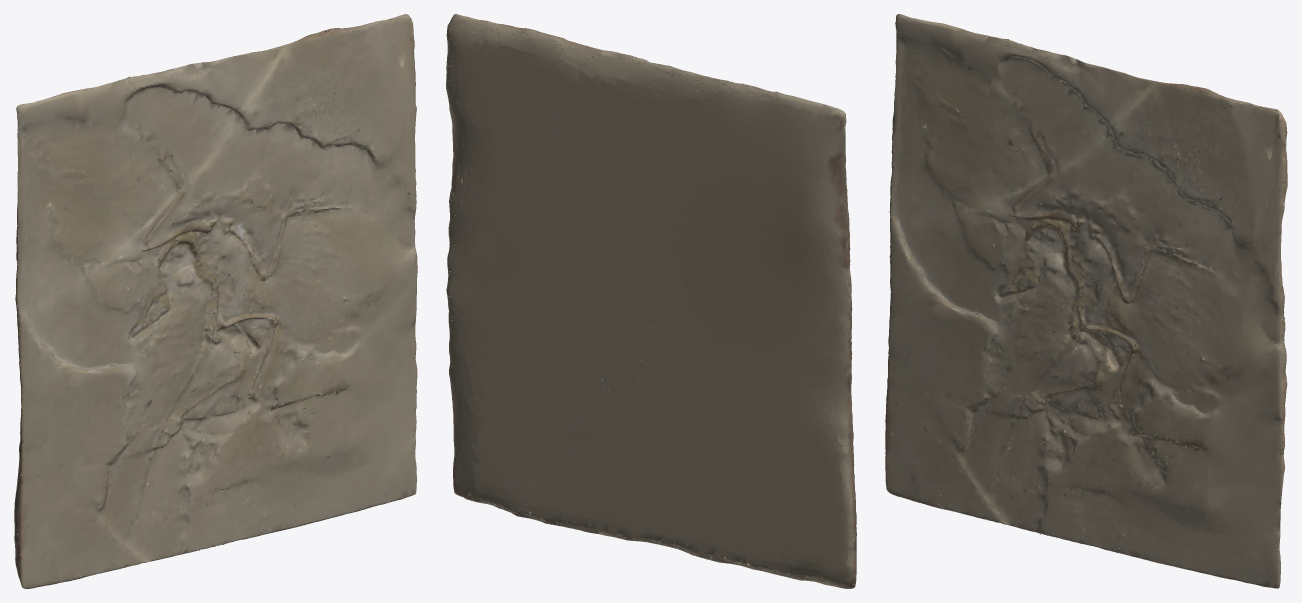
File: archaeopteryx_fossil.glb
The picture shows the model from 3 angles, left to right: view 1: azimuth 30°, elevation 25°; view 2: azimuth 150°, elevation 25°; view 3: azimuth 330°, elevation 25°; orthographic projection. The views are drawn at different scales.
Visible parts, largest first — view 1: Object_5, Object_12, Object_6, Object_10, Object_11, Object_13, Object_8, Object_7, Object_9, Object_4, Object_3; view 2: Object_3, Object_4, Object_9, Object_7, Object_8, Object_11, Object_10, Object_13, Object_6, Object_5, Object_12; view 3: Object_5, Object_12, Object_6, Object_10, Object_11, Object_13, Object_8, Object_7, Object_9, Object_4, Object_3.
Part boxes in pixels (bbox=[...]): Object_5: bbox=[14, 210, 393, 581]; Object_12: bbox=[17, 18, 416, 588]; Object_6: bbox=[16, 149, 416, 513]; Object_10: bbox=[15, 14, 416, 580]; Object_11: bbox=[176, 14, 413, 269]; Object_13: bbox=[14, 19, 414, 578]; Object_8: bbox=[15, 86, 416, 428]; Object_7: bbox=[16, 139, 416, 489]; Object_9: bbox=[17, 83, 417, 465]; Object_4: bbox=[14, 159, 384, 588]; Object_3: bbox=[14, 181, 306, 588]; Object_3: bbox=[523, 189, 855, 588]; Object_4: bbox=[479, 168, 856, 587]; Object_9: bbox=[446, 83, 846, 505]; Object_7: bbox=[452, 125, 851, 494]; Object_8: bbox=[450, 91, 851, 468]; Object_11: bbox=[448, 14, 661, 259]; Object_10: bbox=[446, 14, 856, 581]; Object_13: bbox=[446, 19, 856, 585]; Object_6: bbox=[454, 143, 851, 502]; Object_5: bbox=[473, 157, 856, 577]; Object_12: bbox=[448, 28, 854, 554]; Object_5: bbox=[885, 281, 1254, 584]; Object_12: bbox=[885, 21, 1285, 586]; Object_6: bbox=[890, 81, 1279, 588]; Object_10: bbox=[885, 26, 1287, 588]; Object_11: bbox=[1044, 79, 1284, 335]; Object_13: bbox=[889, 14, 1286, 561]; Object_8: bbox=[890, 46, 1283, 544]; Object_7: bbox=[890, 53, 1281, 587]; Object_9: bbox=[895, 24, 1287, 523]; Object_4: bbox=[885, 86, 1245, 582]; Object_3: bbox=[887, 124, 1173, 548].
Size of the model in its own units: 397 by 458 by 26.81.
